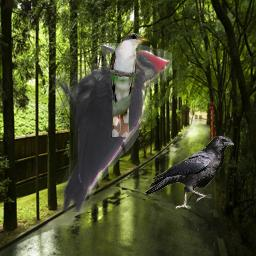Crow: (145, 135, 237, 210)
Cuckoo: (109, 32, 151, 137)
Woodpecker: (52, 43, 172, 212)
